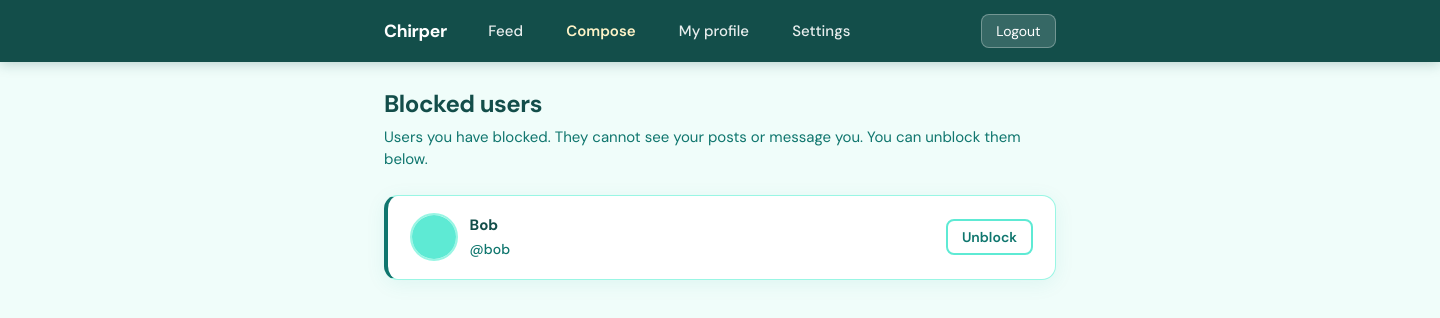
Blocked › unblock removes user from list
The image size is (1440, 318).
Expected: the text "Bob" is shown, [470,215,498,235]
Step 1. Click the button "Unblock" → point(989, 237), box [946,219,1033,255]
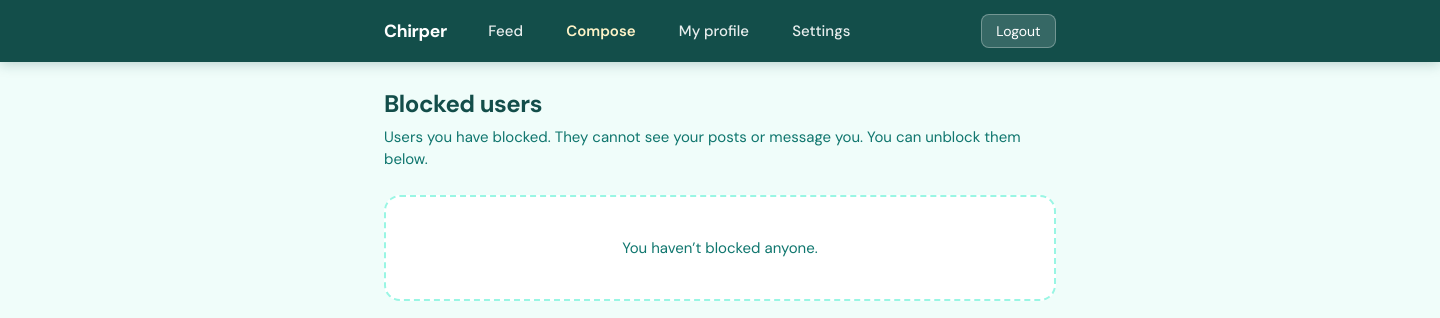
Expected: the link "Bob" is gone
